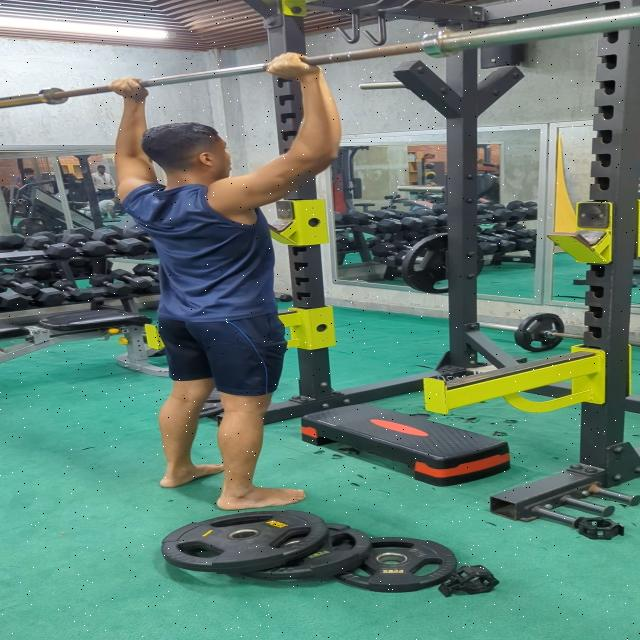Normal_OverheadPress: (100, 35, 358, 512)
